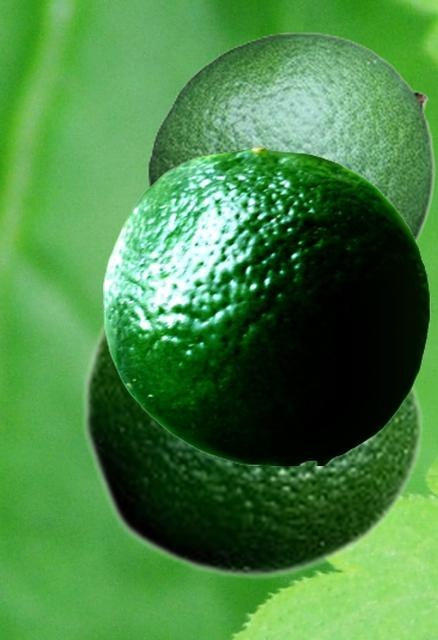calamansi: (103, 144, 429, 464), (80, 311, 424, 580), (147, 31, 434, 244)
